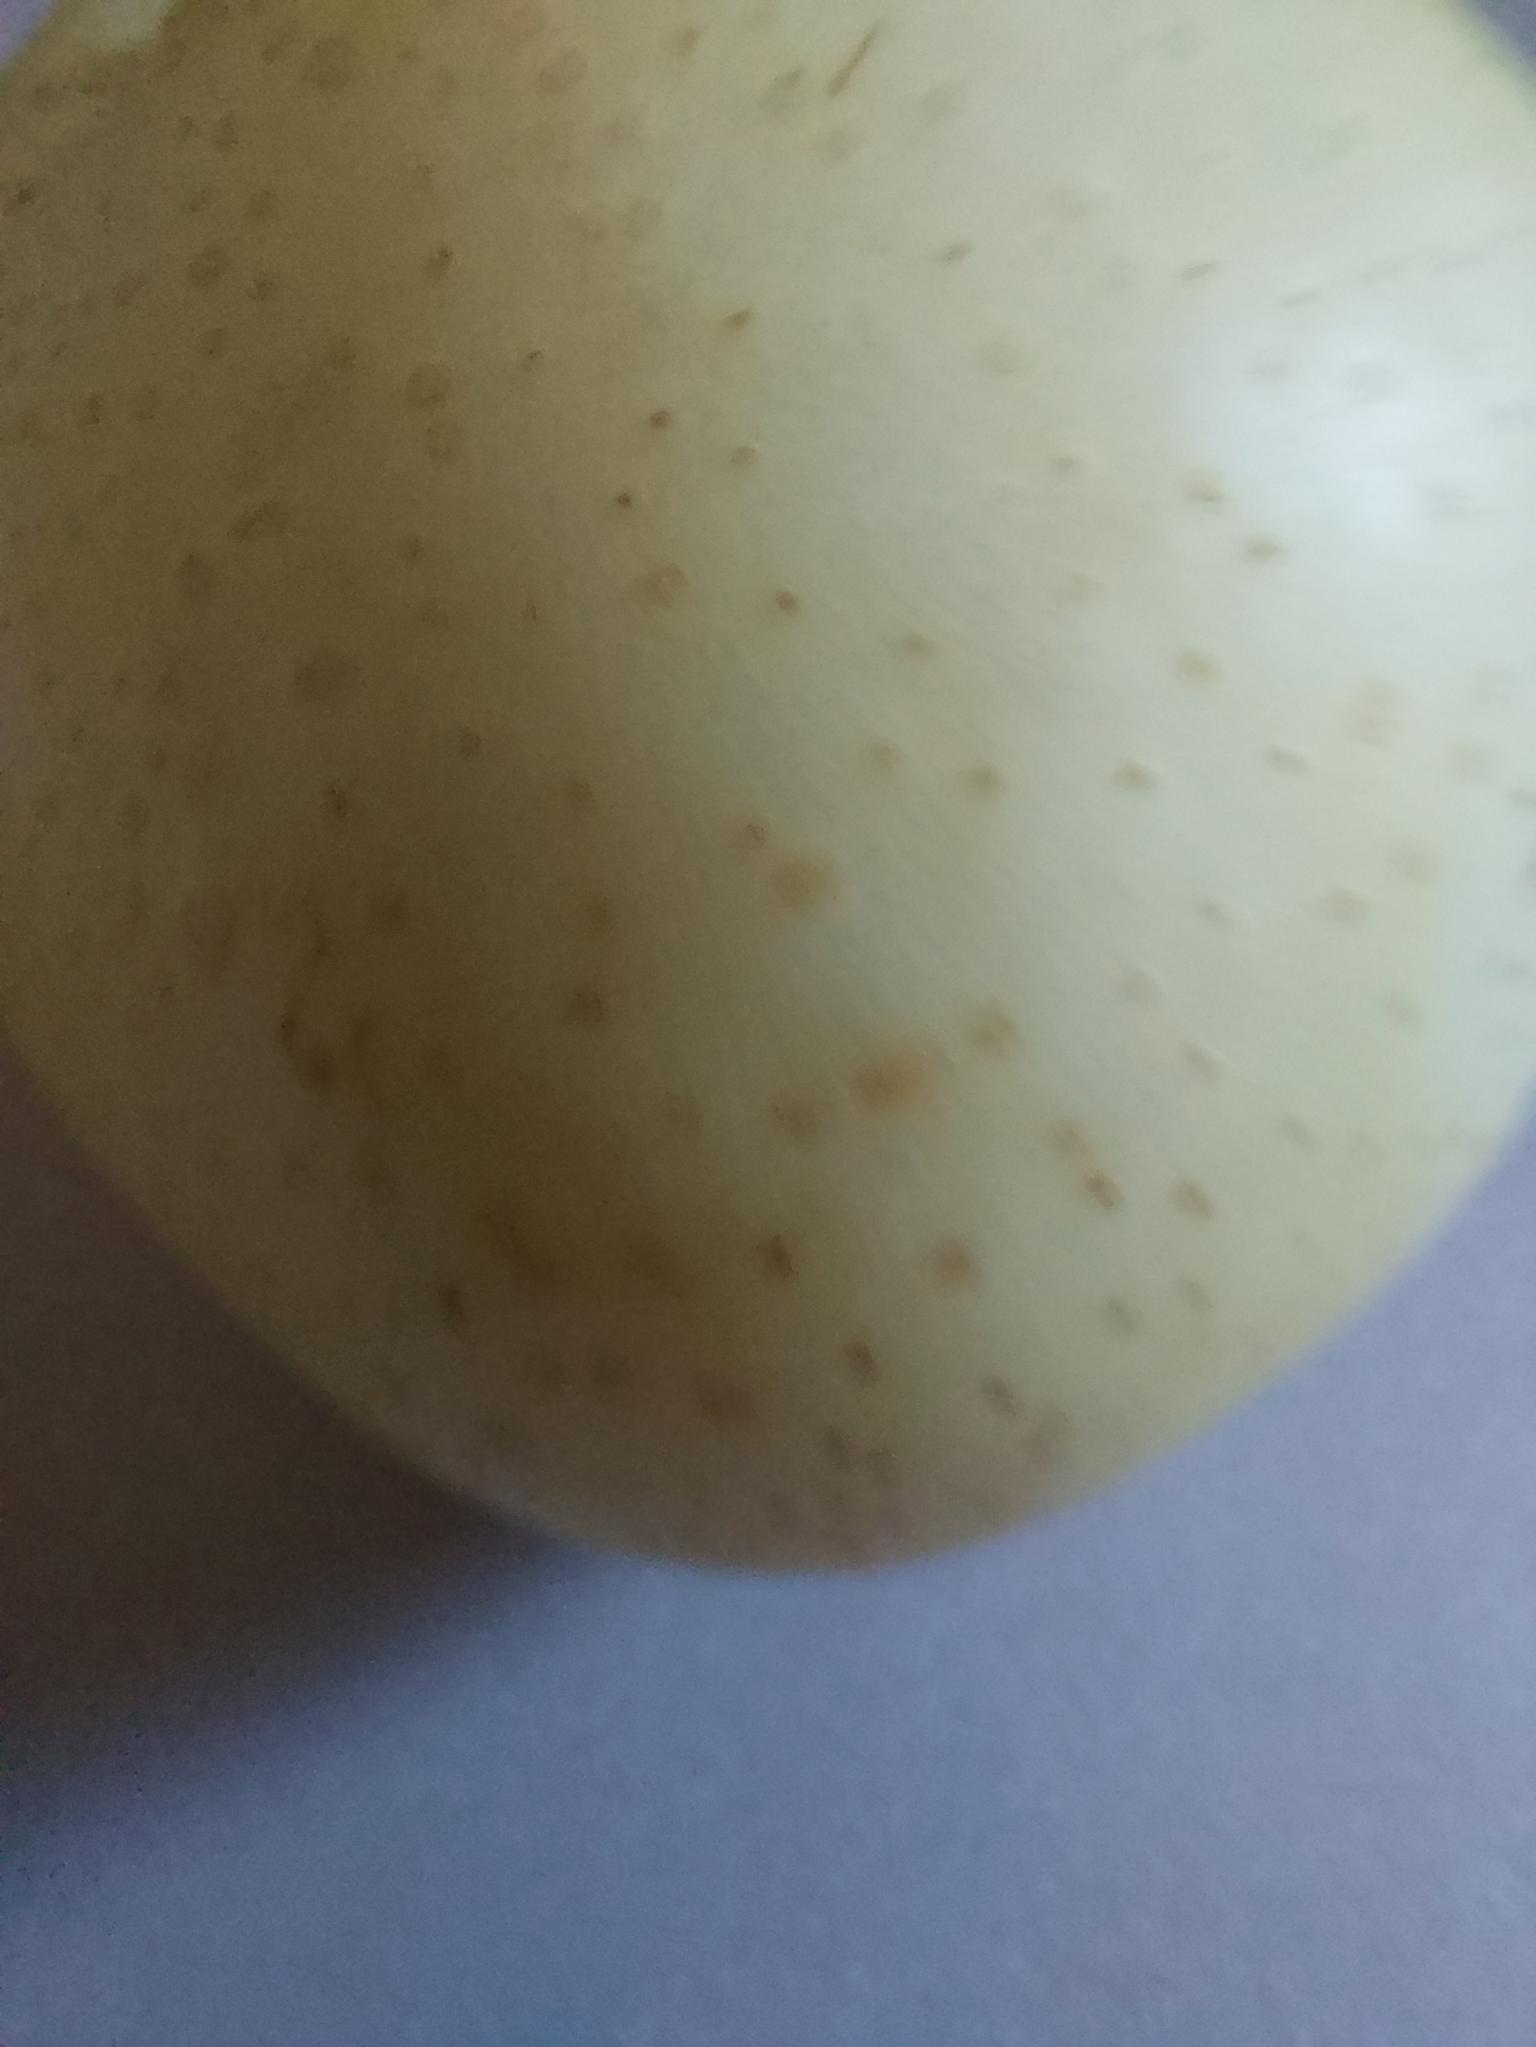Good Pear: (0, 0, 1536, 1737)
